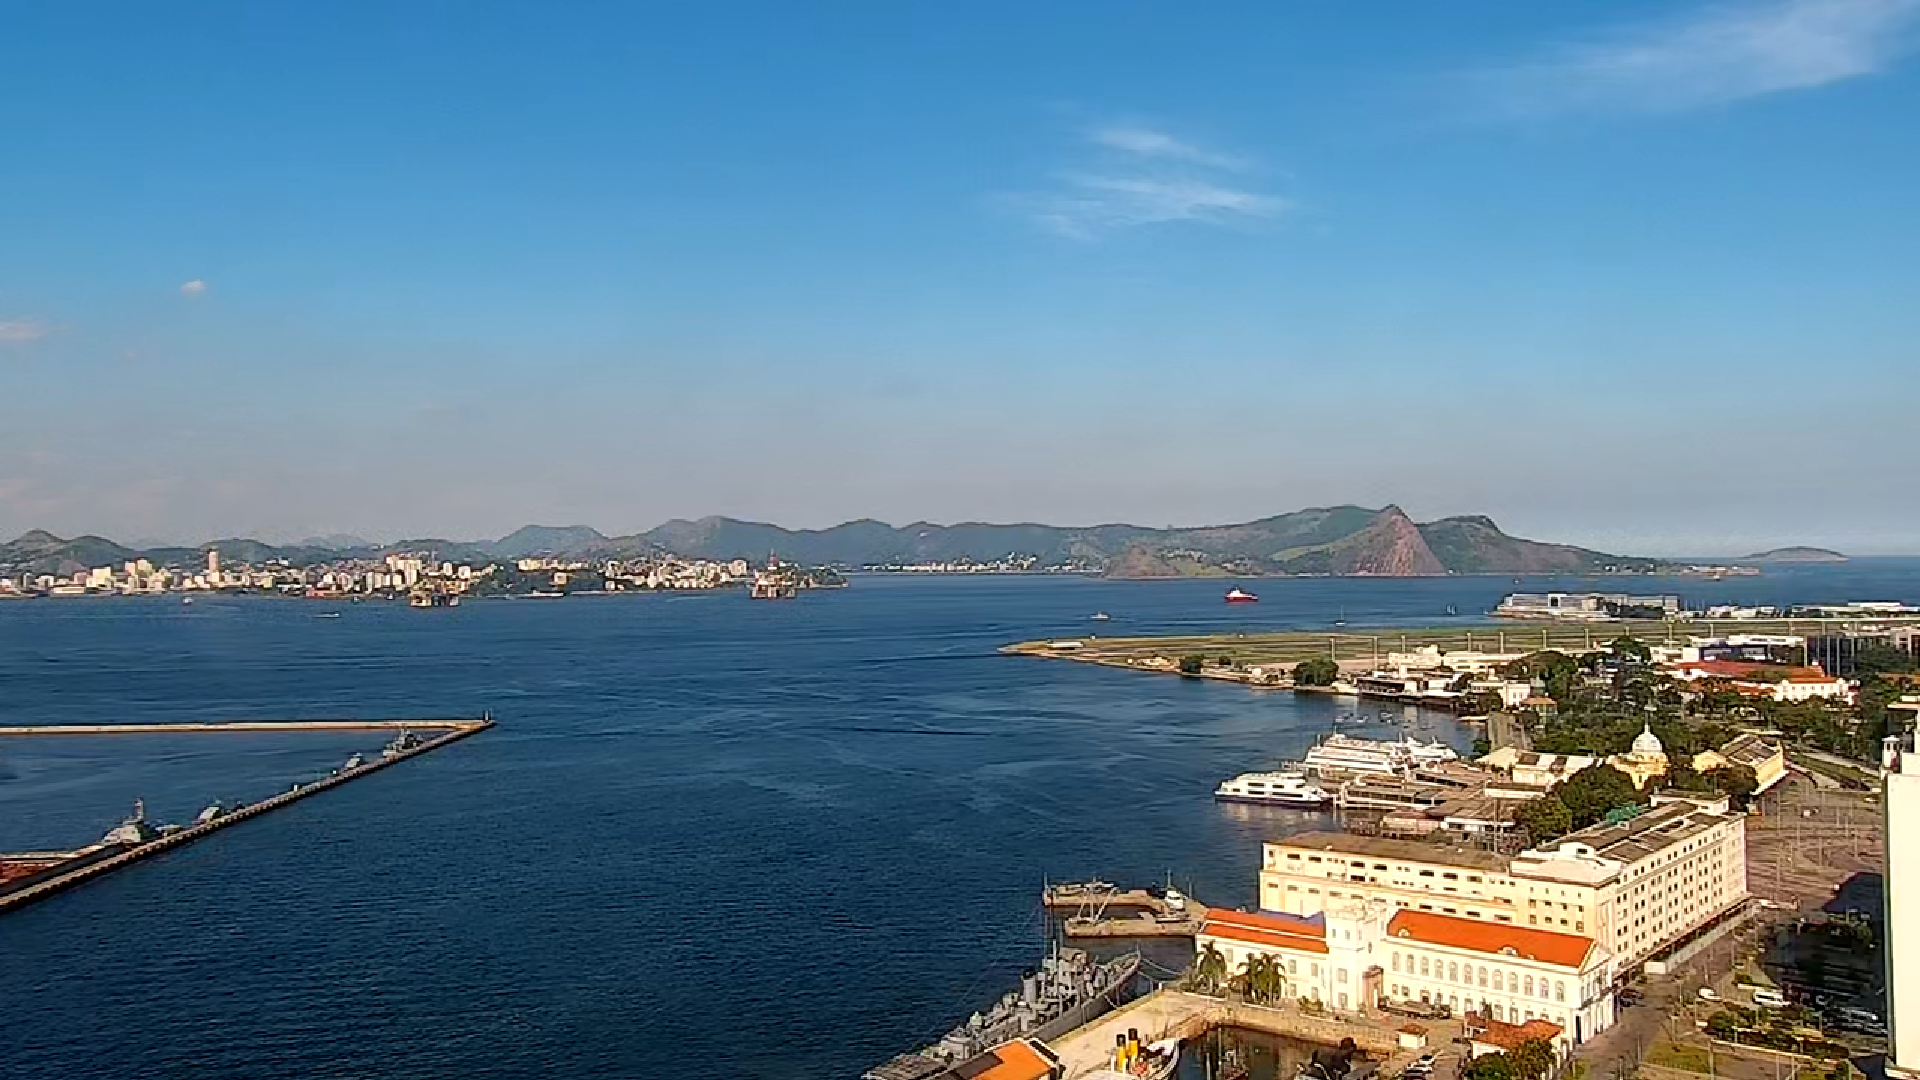Ship5: (1203, 575, 1265, 607)
